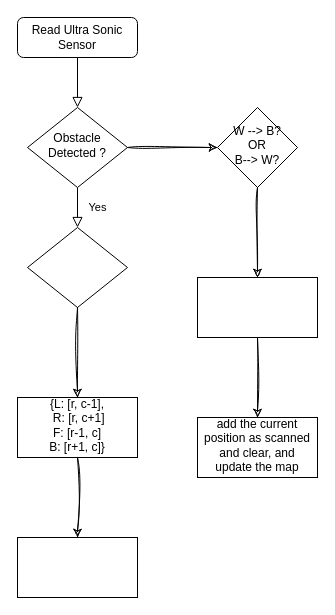
Image size: 335x615. Some labels were removed from this diagram. The box of each missing label's shape, as (x1, y1, x2, y2) in pixels:
add the position of the obstacle and update the map: (16, 536, 138, 598)
update position: (196, 276, 318, 338)
What is the Orientation of the robot ?: (26, 226, 128, 308)
